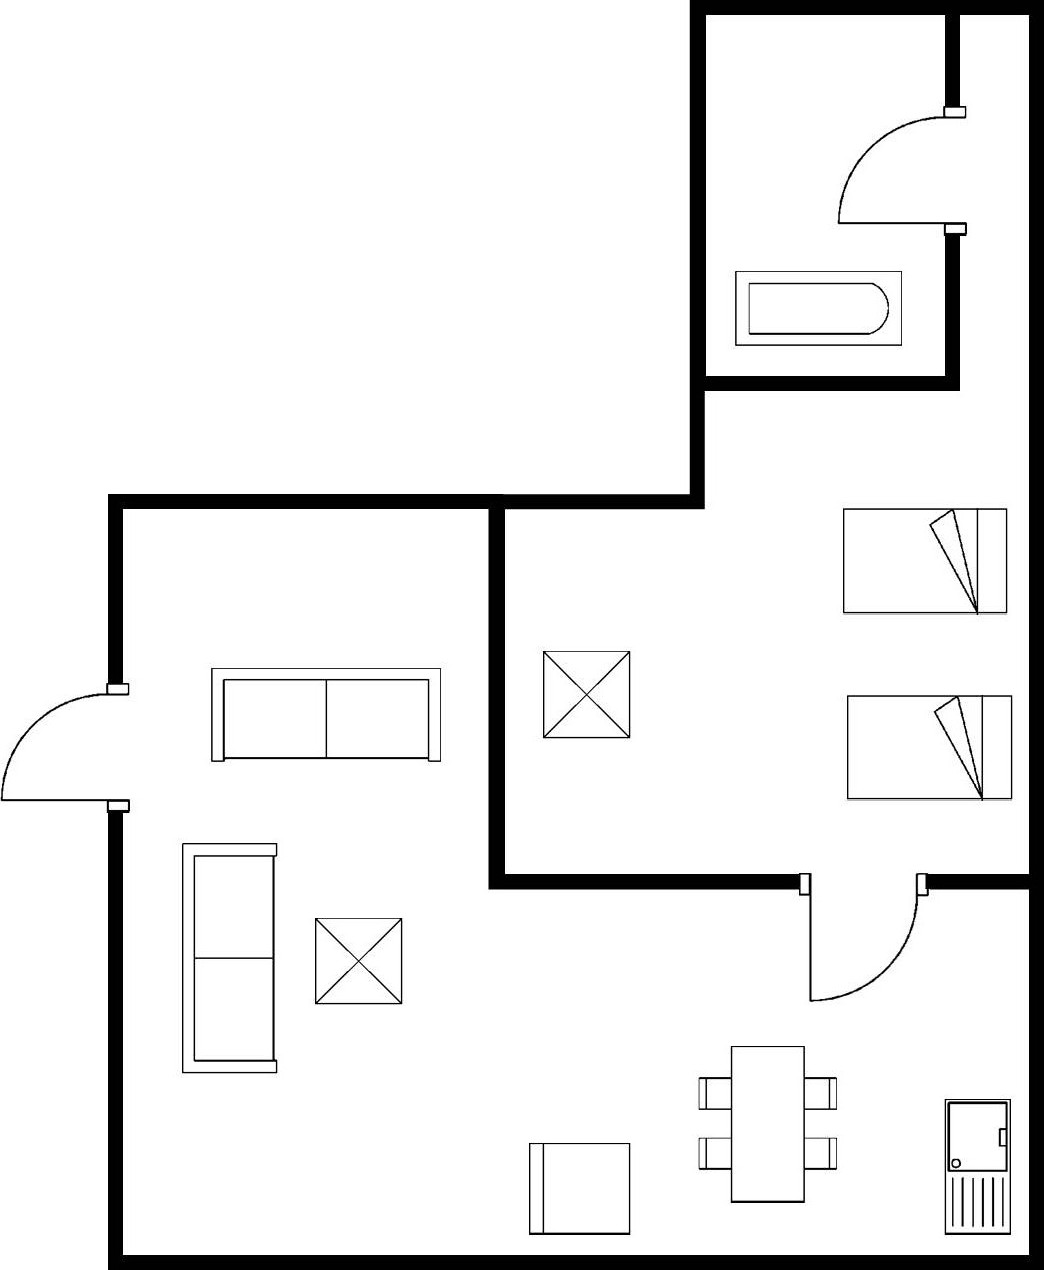bed: (833, 501, 1013, 625), (844, 690, 1019, 809)
coffee_table: (307, 909, 409, 1013), (538, 644, 637, 748)
dining_table: (691, 1039, 843, 1209)
large_sofa: (172, 834, 284, 1082), (205, 664, 449, 770)
sink: (937, 1093, 1018, 1243)
small_sofa: (517, 1135, 639, 1243)
tub: (730, 266, 906, 351)
